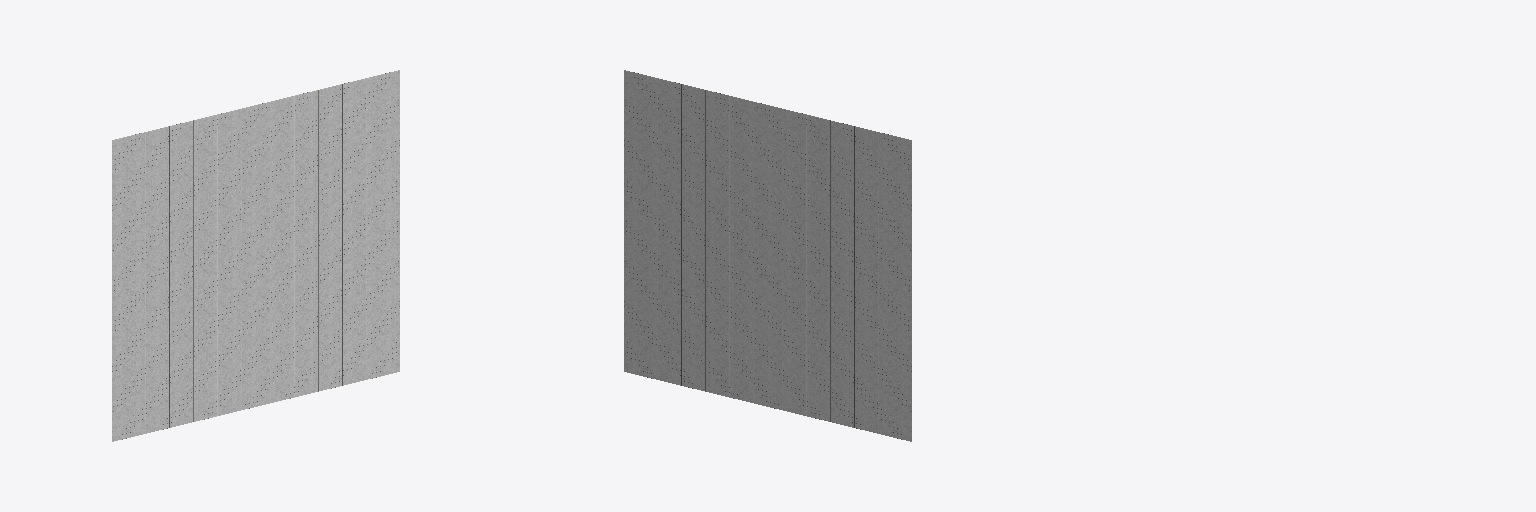
3 renders of one model, left to right at view 1: azimuth 30°, elevation 25°; view 2: azimuth 150°, elevation 25°; view 3: azimuth 270°, elevation 25°, orthographic.
Parts seen in each view (by area): view 1: Plane; view 2: Plane; view 3: none.
Part boxes in pixels (x1,y1,x2,y2): Plane: (112, 70, 399, 441); Plane: (624, 70, 911, 441).
Bounding box in the file's own units: 30 × 30 × 0.
1 materials, 1 textured.